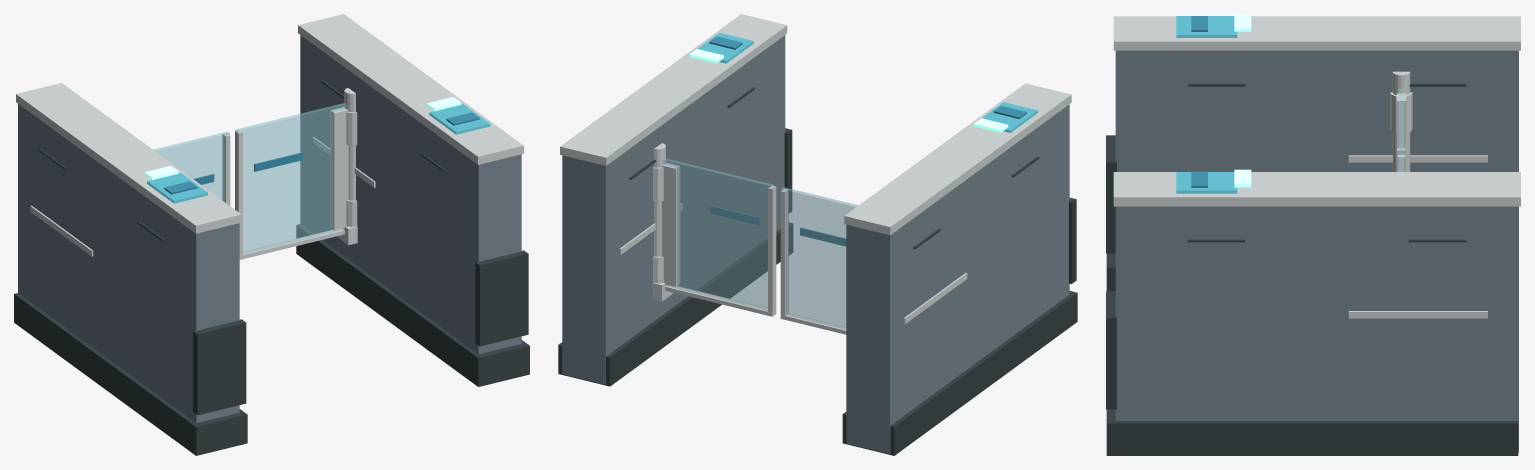
3 renders of one model, left to right at view 1: azimuth 30°, elevation 25°; view 2: azimuth 150°, elevation 25°; view 3: azimuth 270°, elevation 25°, orthographic. The views are drawn at different scales.
Parts seen in each view (by area): view 1: BODY_VIS_Cabinet_L, BODY_VIS_Cabinet_R, R_VIS_Glass_Leaf_R, BODY_VIS_Top_L, BODY_VIS_Top_R, BODY_VIS_Plinth_L, BODY_VIS_Plinth_R, BODY_VIS_Front_Bumper_L, BODY_VIS_Front_Bumper_R, L_VIS_Glass_Leaf_L, R_VIS_Leaf_Hinge_Brace_R, BODY_VIS_NFC_Reader_R (+5 smaller); view 2: BODY_VIS_Cabinet_L, BODY_VIS_Cabinet_R, R_VIS_Glass_Leaf_R, BODY_VIS_Top_L, BODY_VIS_Top_R, L_VIS_Glass_Leaf_L, BODY_VIS_Plinth_L, BODY_VIS_Plinth_R, R_VIS_Leaf_Hinge_Brace_R, R_VIS_Leaf_Front_Edge_R, L_VIS_Leaf_Front_Edge_L, R_VIS_Leaf_Hem_R (+5 smaller); view 3: BODY_VIS_Cabinet_R, BODY_VIS_Cabinet_L, BODY_VIS_Plinth_R, BODY_VIS_Top_R, BODY_VIS_Top_L, BODY_VIS_Front_Bumper_R, BODY_VIS_Front_Bumper_L, BODY_VIS_Side_Satin_R, BODY_VIS_NFC_Reader_L, BODY_VIS_NFC_Reader_R, BODY_VIS_Side_Satin_L, BODY_VIS_Hinge_Pin_L (+2 smaller).
Boxes of the visible parts, x1=… form: BODY_VIS_Cabinet_L: x1=18, y1=104, x2=239, y2=422; BODY_VIS_Cabinet_R: x1=300, y1=35, x2=521, y2=354; R_VIS_Glass_Leaf_R: x1=235, y1=103, x2=346, y2=254; BODY_VIS_Top_L: x1=16, y1=83, x2=241, y2=233; BODY_VIS_Top_R: x1=298, y1=14, x2=523, y2=164; BODY_VIS_Plinth_L: x1=14, y1=293, x2=247, y2=455; BODY_VIS_Plinth_R: x1=296, y1=224, x2=529, y2=386; BODY_VIS_Front_Bumper_L: x1=193, y1=319, x2=246, y2=415; BODY_VIS_Front_Bumper_R: x1=475, y1=250, x2=528, y2=346; L_VIS_Glass_Leaf_L: x1=153, y1=131, x2=229, y2=201; R_VIS_Leaf_Hinge_Brace_R: x1=330, y1=107, x2=348, y2=230; BODY_VIS_NFC_Reader_R: x1=429, y1=104, x2=490, y2=134; BODY_VIS_Cabinet_L: x1=846, y1=104, x2=1069, y2=453; BODY_VIS_Cabinet_R: x1=562, y1=35, x2=785, y2=384; R_VIS_Glass_Leaf_R: x1=663, y1=158, x2=775, y2=310; BODY_VIS_Top_L: x1=844, y1=83, x2=1071, y2=235; BODY_VIS_Top_R: x1=560, y1=14, x2=787, y2=165; L_VIS_Glass_Leaf_L: x1=781, y1=187, x2=858, y2=329; BODY_VIS_Plinth_L: x1=842, y1=291, x2=1077, y2=455; BODY_VIS_Plinth_R: x1=558, y1=222, x2=792, y2=386; R_VIS_Leaf_Hinge_Brace_R: x1=661, y1=162, x2=679, y2=286; R_VIS_Leaf_Front_Edge_R: x1=768, y1=186, x2=776, y2=312; L_VIS_Leaf_Front_Edge_L: x1=780, y1=189, x2=788, y2=315; R_VIS_Leaf_Hem_R: x1=665, y1=285, x2=776, y2=316; BODY_VIS_Cabinet_R: x1=1115, y1=206, x2=1518, y2=452; BODY_VIS_Cabinet_L: x1=1115, y1=50, x2=1518, y2=171; BODY_VIS_Plinth_R: x1=1106, y1=409, x2=1518, y2=455; BODY_VIS_Top_R: x1=1113, y1=172, x2=1520, y2=206; BODY_VIS_Top_L: x1=1113, y1=16, x2=1520, y2=50; BODY_VIS_Front_Bumper_R: x1=1106, y1=291, x2=1116, y2=409; BODY_VIS_Front_Bumper_L: x1=1106, y1=135, x2=1116, y2=253; BODY_VIS_Side_Satin_R: x1=1348, y1=311, x2=1487, y2=318; BODY_VIS_NFC_Reader_L: x1=1176, y1=16, x2=1237, y2=37; BODY_VIS_NFC_Reader_R: x1=1176, y1=172, x2=1237, y2=193; BODY_VIS_Side_Satin_L: x1=1348, y1=155, x2=1487, y2=162; BODY_VIS_Hinge_Pin_L: x1=1392, y1=71, x2=1410, y2=171.
Bounding box in the file's own units: 1.82 × 1.22 × 1.73.
